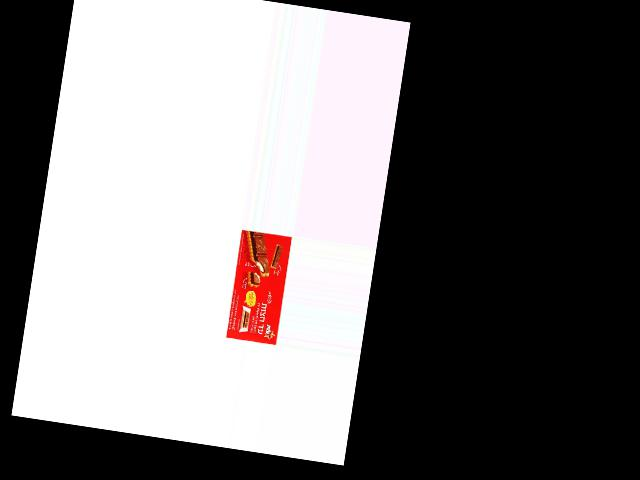chocolate: (225, 229, 292, 347)
